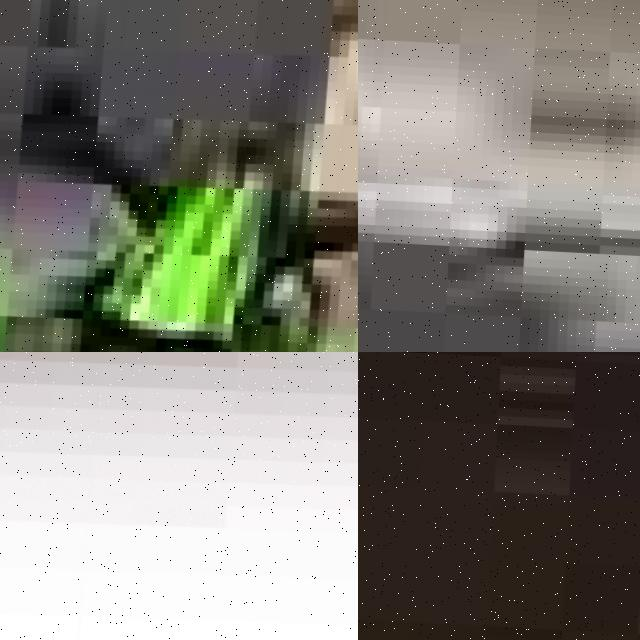0: (0, 0, 358, 352)
drone: (0, 352, 358, 640)
